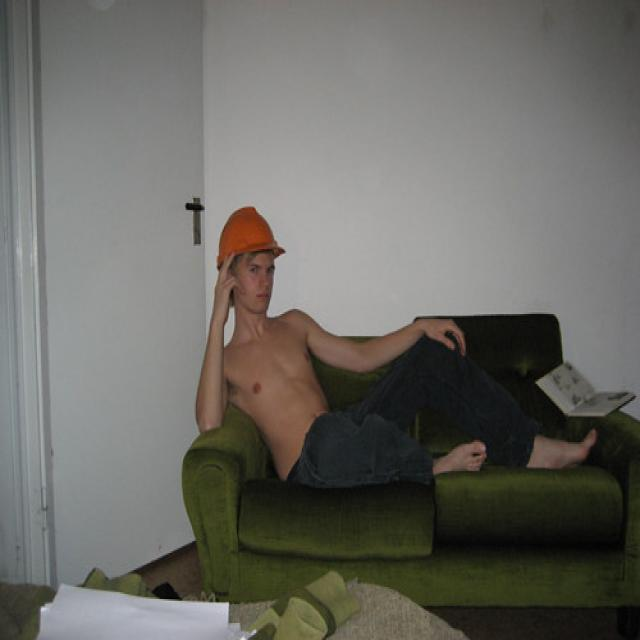Safety-Helmet: (210, 198, 289, 276)
